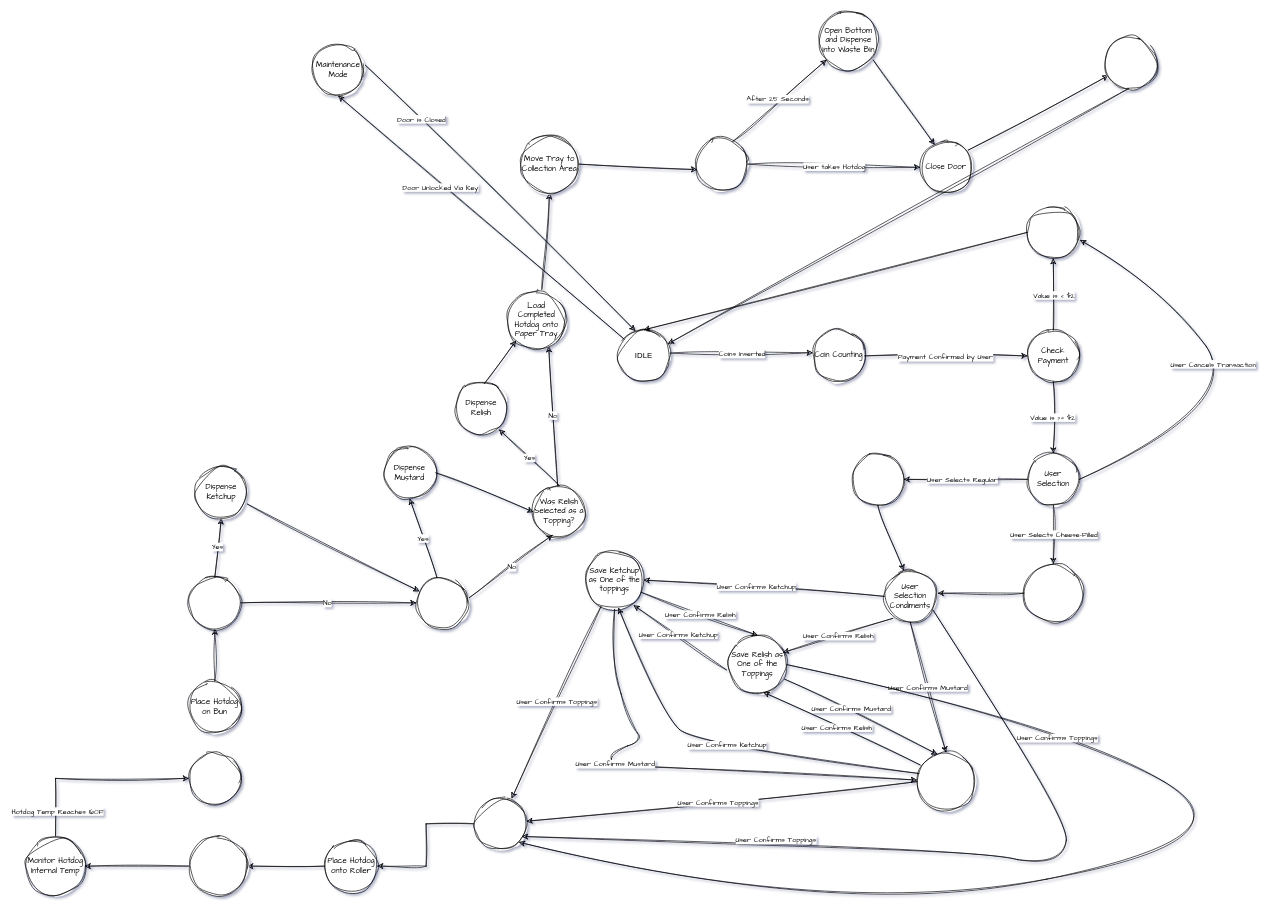
The diagram is 1271 pixels wide and 911 high, and some of its shapes have lost their labels. Each missing label, with the centre of its shape:
"Begin Heating and Spinning Roller" belongs at [217,865].
"Begin Hotdog Cooking" belongs at [500,823].
"Cleaning Process" belongs at [1131,63].
"Open Door" belongs at [721,163].
"Refund Coins" belongs at [1053,232].
"Save Mustard as One of the Toppings" belongs at [945,781].
"Save Selected Option as Cheese-Filled" belongs at [1053,592].
"Save Selected Option as Regular" belongs at [877,479].
"Was Ketchup Selected as a Topping?" belongs at [214,602].
"Was Mustard Selected as a Topping" belongs at [442,602].
